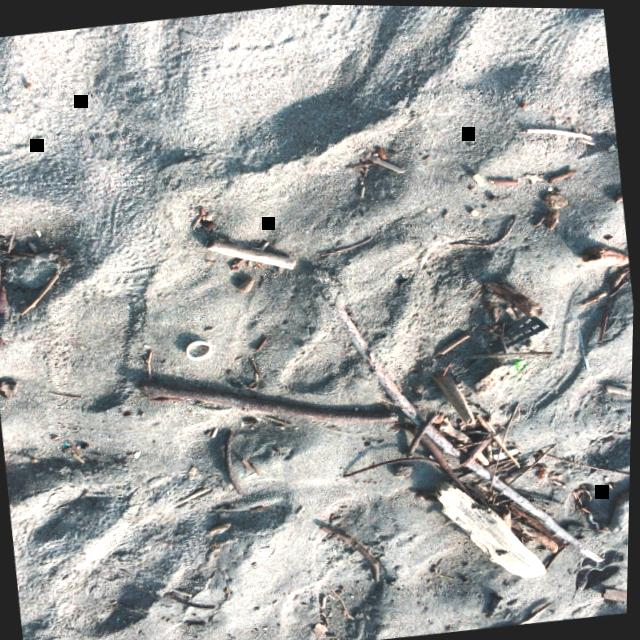Other plastic bottle: (505, 313, 549, 348), (581, 328, 591, 368), (511, 358, 528, 377)
Plastic bottle cap: (188, 339, 214, 359)
